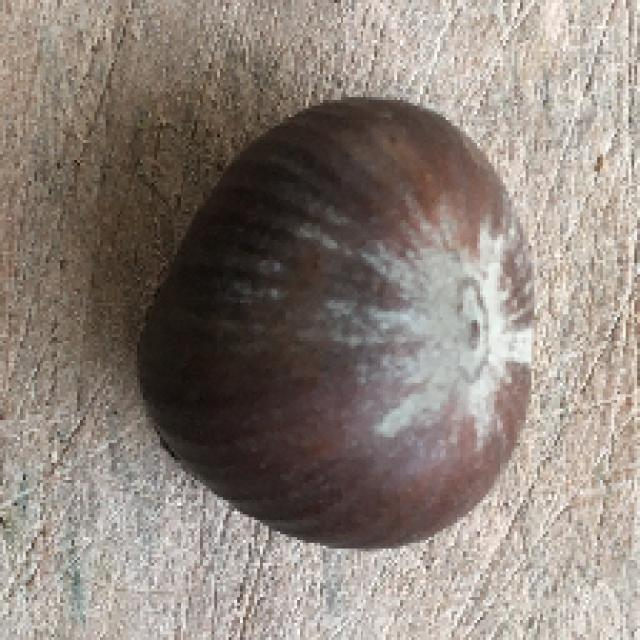damagedHazelnut: (139, 88, 535, 551)
